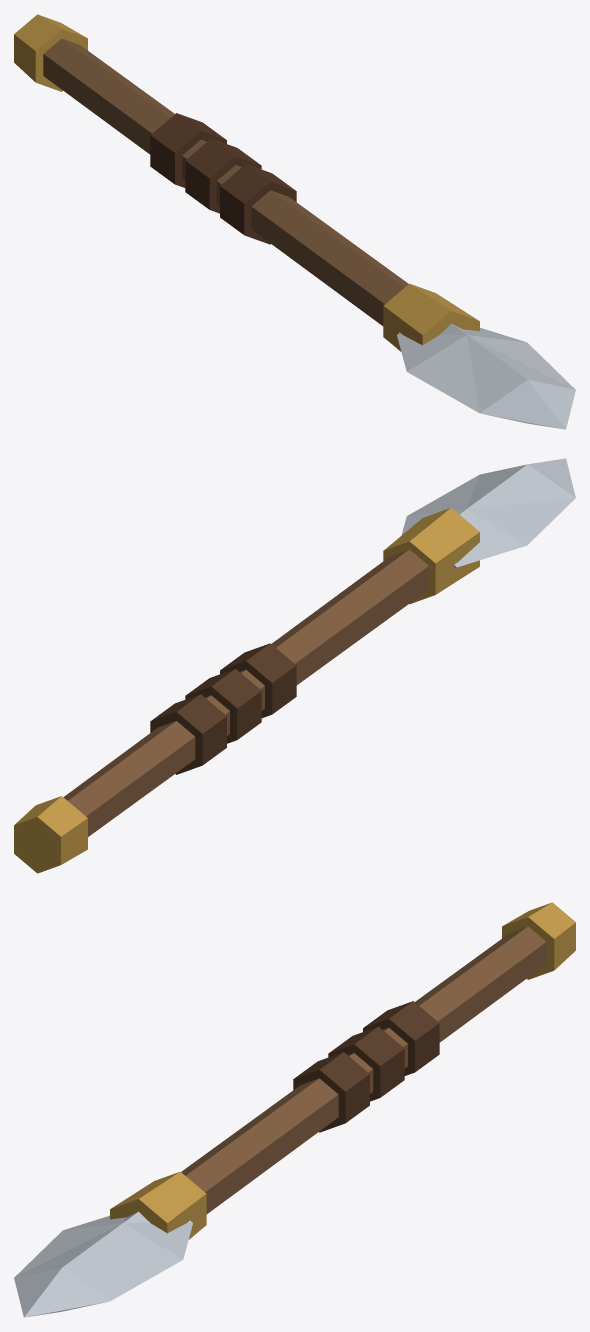
The model's file is Shot_Spear.fbx.
The picture shows the model from 3 angles, top to bottom: view 1: azimuth 30°, elevation 25°; view 2: azimuth 150°, elevation 25°; view 3: azimuth 330°, elevation 25°; orthographic projection.
Visible parts, largest first — view 1: Shaft, Tip, Wrap, Collar; view 2: Shaft, Tip, Collar, Wrap; view 3: Shaft, Tip, Wrap, Collar.
Boxes of the visible parts, left/top/right/bottom form: Shaft: left=43, top=38, right=408, bottom=325; Tip: left=397, top=323, right=575, bottom=429; Wrap: left=150, top=113, right=296, bottom=244; Collar: left=14, top=14, right=479, bottom=351; Shaft: left=63, top=549, right=428, bottom=836; Tip: left=401, top=458, right=575, bottom=568; Collar: left=14, top=508, right=479, bottom=873; Wrap: left=150, top=643, right=296, bottom=774; Shaft: left=181, top=926, right=546, bottom=1213; Tip: left=14, top=1211, right=192, bottom=1317; Wrap: left=293, top=1001, right=439, bottom=1132; Collar: left=110, top=902, right=575, bottom=1239.
Size of the model in its own units: 0.4 by 0.22 by 3.04.
